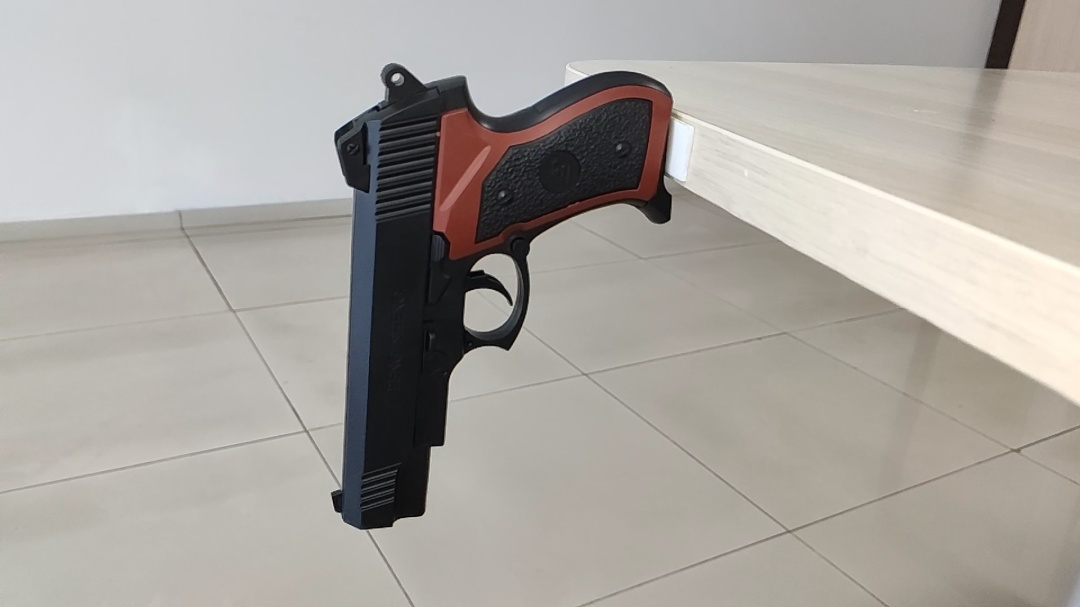gun: (302, 56, 677, 533)
